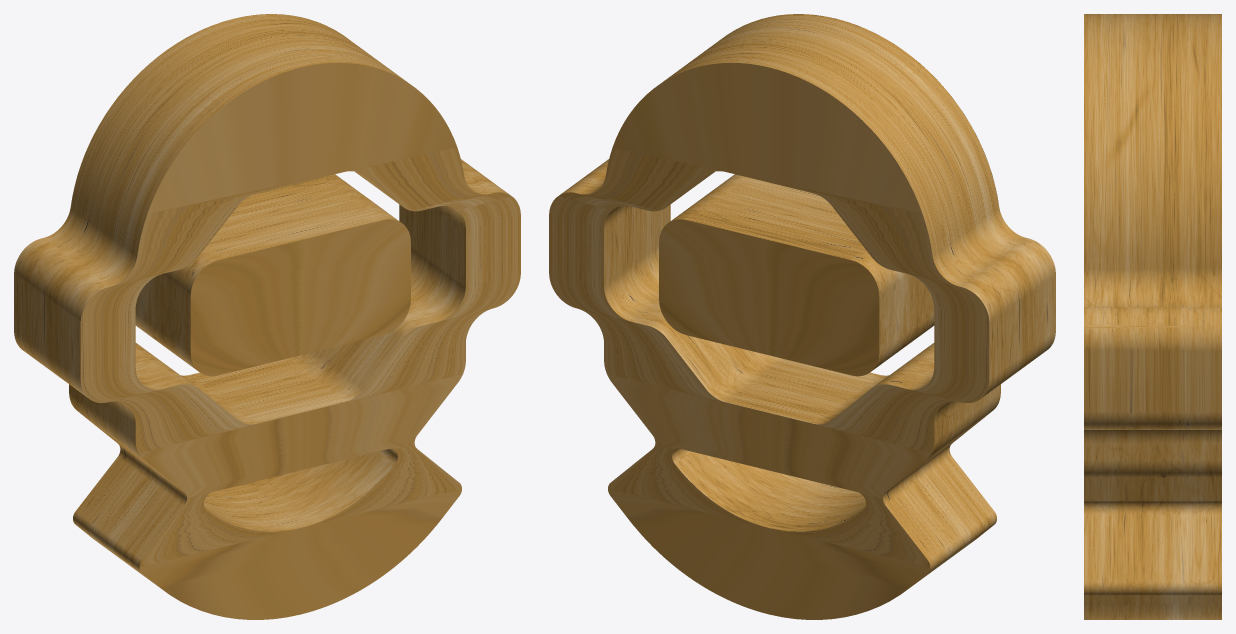
Rendered from helmet-v2.glb.
3 views of the same model, side by side, from view 1: azimuth 30°, elevation 25°; view 2: azimuth 150°, elevation 25°; view 3: azimuth 270°, elevation 25° (orthographic). The views are drawn at different scales.
Parts seen in each view (by area): view 1: Curve; view 2: Curve; view 3: Curve.
Boxes of the visible parts, <box> form: Curve: <box>14,14,520,619</box>; Curve: <box>549,14,1055,619</box>; Curve: <box>1084,14,1221,619</box>.
Size of the model in its own units: 11.22 by 13.32 by 2.94.
1 material, 1 textured.
